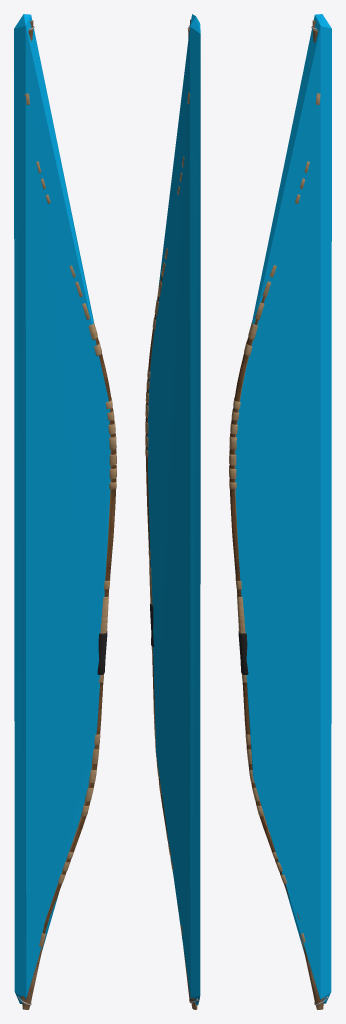
The model's file is JWC_Weapon_Yumi_A_03.fbx.
The picture shows the model from 3 angles, left to right: view 1: azimuth 90°, elevation 25°; view 2: azimuth 210°, elevation 25°; view 3: azimuth 270°, elevation 25°; orthographic projection.
Visible parts, largest first — view 1: C_JWC_Weapon_Yumi_A_03, JWC_Weapon_Yumi_A_03; view 2: C_JWC_Weapon_Yumi_A_03, JWC_Weapon_Yumi_A_03; view 3: C_JWC_Weapon_Yumi_A_03, JWC_Weapon_Yumi_A_03.
Boxes of the visible parts, <box> form: C_JWC_Weapon_Yumi_A_03: <box>14,14,110,1003</box>; JWC_Weapon_Yumi_A_03: <box>17,20,116,1009</box>; C_JWC_Weapon_Yumi_A_03: <box>147,14,200,1005</box>; JWC_Weapon_Yumi_A_03: <box>145,19,199,1009</box>; C_JWC_Weapon_Yumi_A_03: <box>234,14,331,1003</box>; JWC_Weapon_Yumi_A_03: <box>229,20,328,1009</box>.
Bounding box in the file's own units: 0.0318 × 2.59 × 0.2427.
